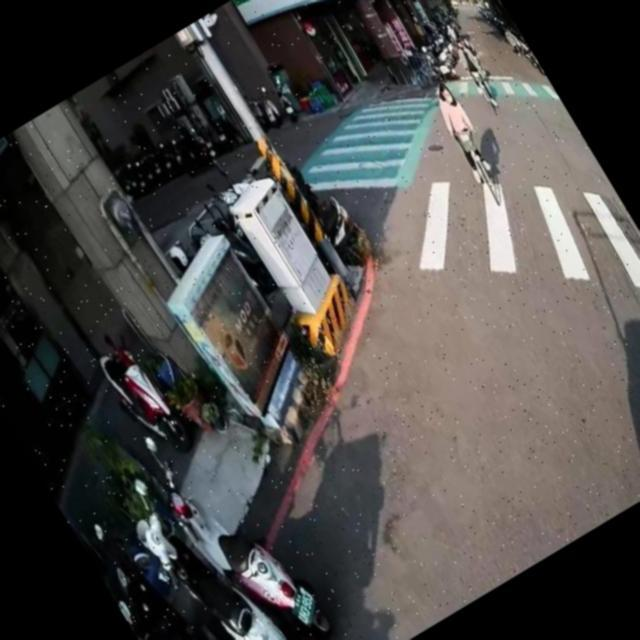person: (421, 76, 502, 186), (446, 33, 502, 110)
